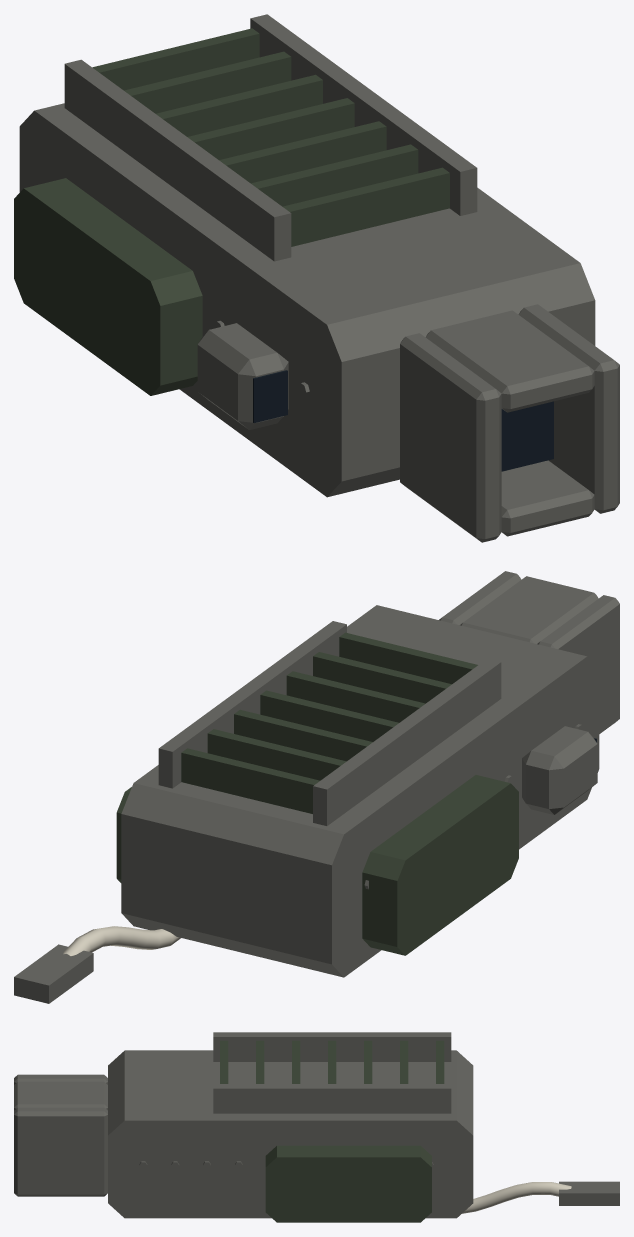
Rendered from pt2_emitter.obj.
The picture shows the model from 3 angles, top to bottom: view 1: azimuth 30°, elevation 25°; view 2: azimuth 150°, elevation 25°; view 3: azimuth 270°, elevation 25°; orthographic projection. The views are drawn at different scales.
Parts seen in each view (by area): view 1: pt2_emitter; view 2: pt2_emitter; view 3: pt2_emitter.
Part boxes in pixels (x1,y1,x2,y2): pt2_emitter: (14,14,619,542); pt2_emitter: (14,571,619,1003); pt2_emitter: (14,1032,619,1222).
Size of the model in its own units: 0.82 by 0.5172 by 2.19.
